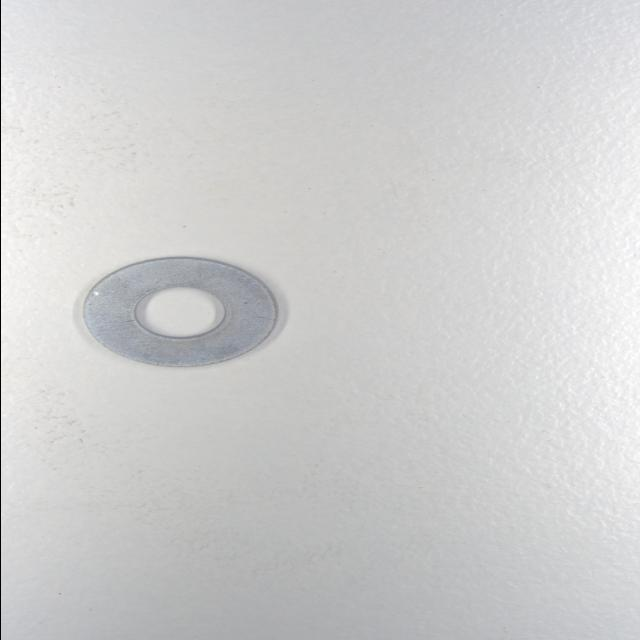washer: (81, 256, 282, 370)
